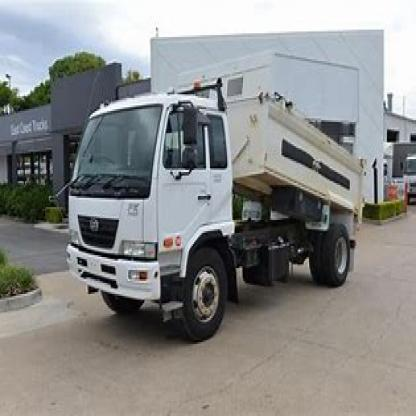dump_truck: (53, 61, 393, 346)
